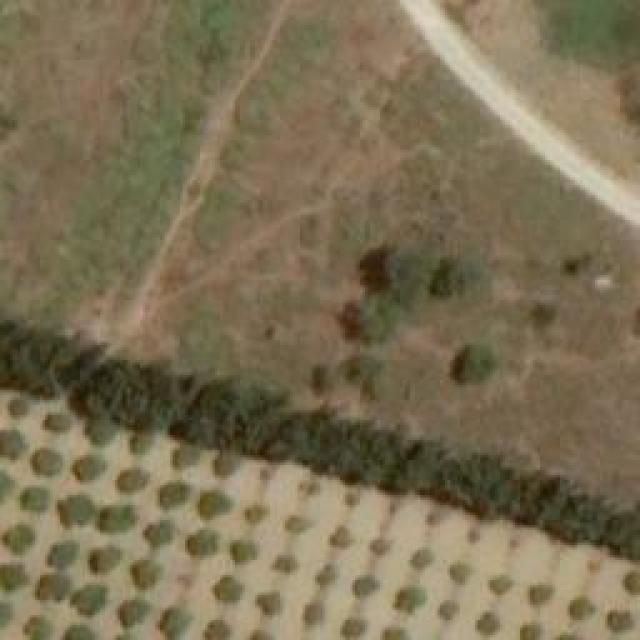Tree: (360, 248, 413, 298), (345, 298, 398, 343), (432, 258, 480, 301), (450, 348, 488, 383), (308, 362, 343, 396), (73, 583, 108, 616), (198, 488, 231, 521), (97, 505, 135, 533), (58, 495, 93, 525), (88, 543, 121, 573), (158, 480, 191, 510), (188, 530, 223, 558), (528, 300, 557, 333), (38, 572, 71, 600), (118, 597, 151, 625), (132, 558, 160, 591), (145, 517, 178, 545), (213, 575, 243, 605), (70, 455, 105, 480), (33, 447, 63, 475), (83, 417, 113, 445), (160, 608, 188, 638), (118, 468, 151, 493), (168, 443, 201, 468), (0, 562, 28, 590), (47, 537, 75, 565), (227, 537, 255, 565), (23, 615, 53, 640), (568, 595, 598, 620), (0, 430, 25, 458), (5, 525, 30, 553), (42, 413, 70, 438), (212, 453, 240, 478), (255, 593, 283, 618), (528, 582, 553, 610), (605, 610, 633, 635), (18, 488, 48, 511), (393, 588, 423, 611), (475, 610, 498, 638), (57, 625, 95, 640), (487, 575, 515, 595), (8, 395, 31, 418), (462, 525, 483, 549), (340, 620, 365, 640), (203, 620, 228, 640), (130, 433, 153, 453), (328, 525, 351, 545), (313, 565, 336, 585), (353, 578, 376, 598), (450, 563, 470, 586), (273, 555, 298, 573), (622, 570, 640, 595), (243, 505, 266, 523), (283, 515, 306, 533), (412, 548, 430, 571), (303, 603, 323, 623), (438, 600, 458, 620), (520, 622, 540, 640), (383, 625, 406, 639), (370, 540, 390, 555), (248, 628, 272, 640), (425, 510, 443, 525)
